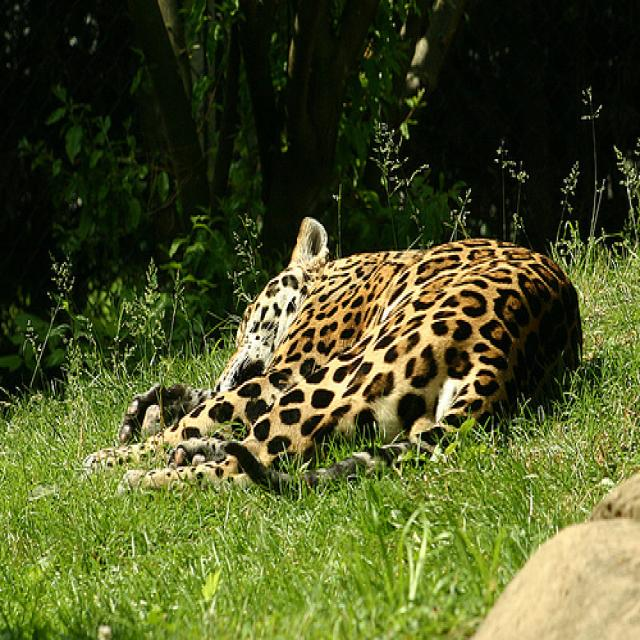Leopard: (79, 212, 580, 504)
